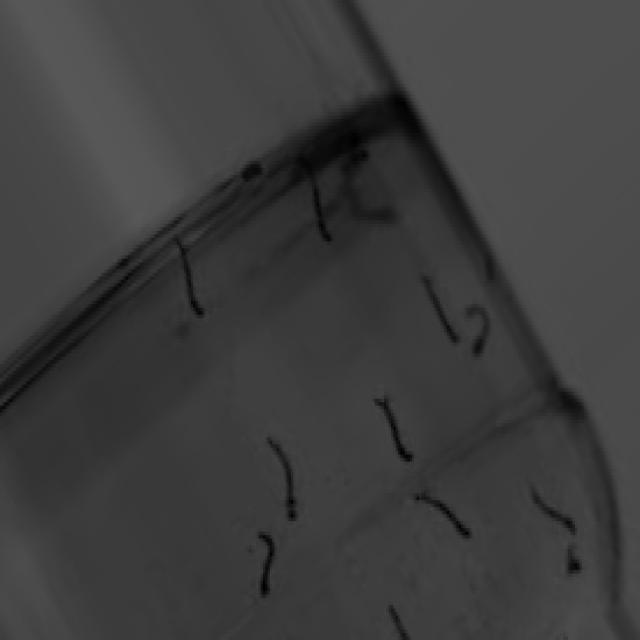larvas: (350, 155, 399, 225), (417, 491, 472, 540), (421, 281, 462, 345), (174, 238, 206, 313), (271, 434, 298, 520), (380, 395, 415, 461), (532, 484, 578, 534), (306, 167, 333, 243), (464, 298, 491, 362), (259, 530, 277, 594), (387, 604, 411, 640), (563, 539, 583, 578)
